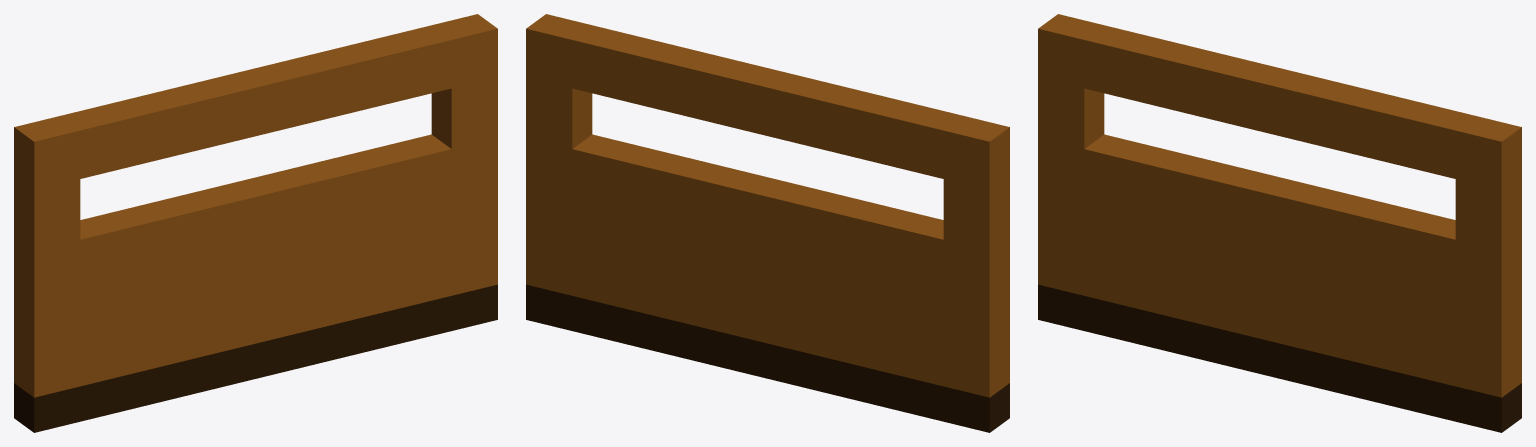
File: new_wall.fbx
3 views of the same model, side by side, from view 1: azimuth 30°, elevation 25°; view 2: azimuth 150°, elevation 25°; view 3: azimuth 330°, elevation 25° (orthographic).
Visible parts, largest first — view 1: Wall_01; view 2: Wall_01; view 3: Wall_01.
Part boxes in pixels (x1,y1,x2,y2): Wall_01: [14, 14, 497, 432]; Wall_01: [526, 14, 1009, 432]; Wall_01: [1038, 14, 1521, 432].
Size of the model in its own units: 400 by 240 by 30.
